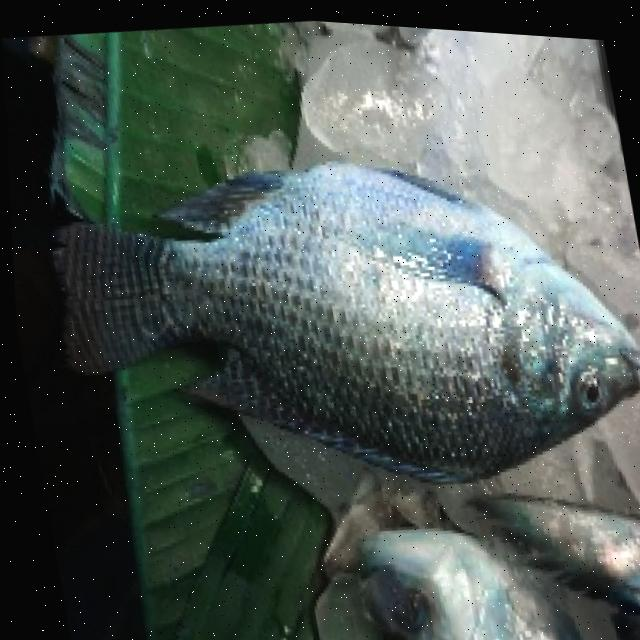Fresh: (40, 118, 640, 538)
